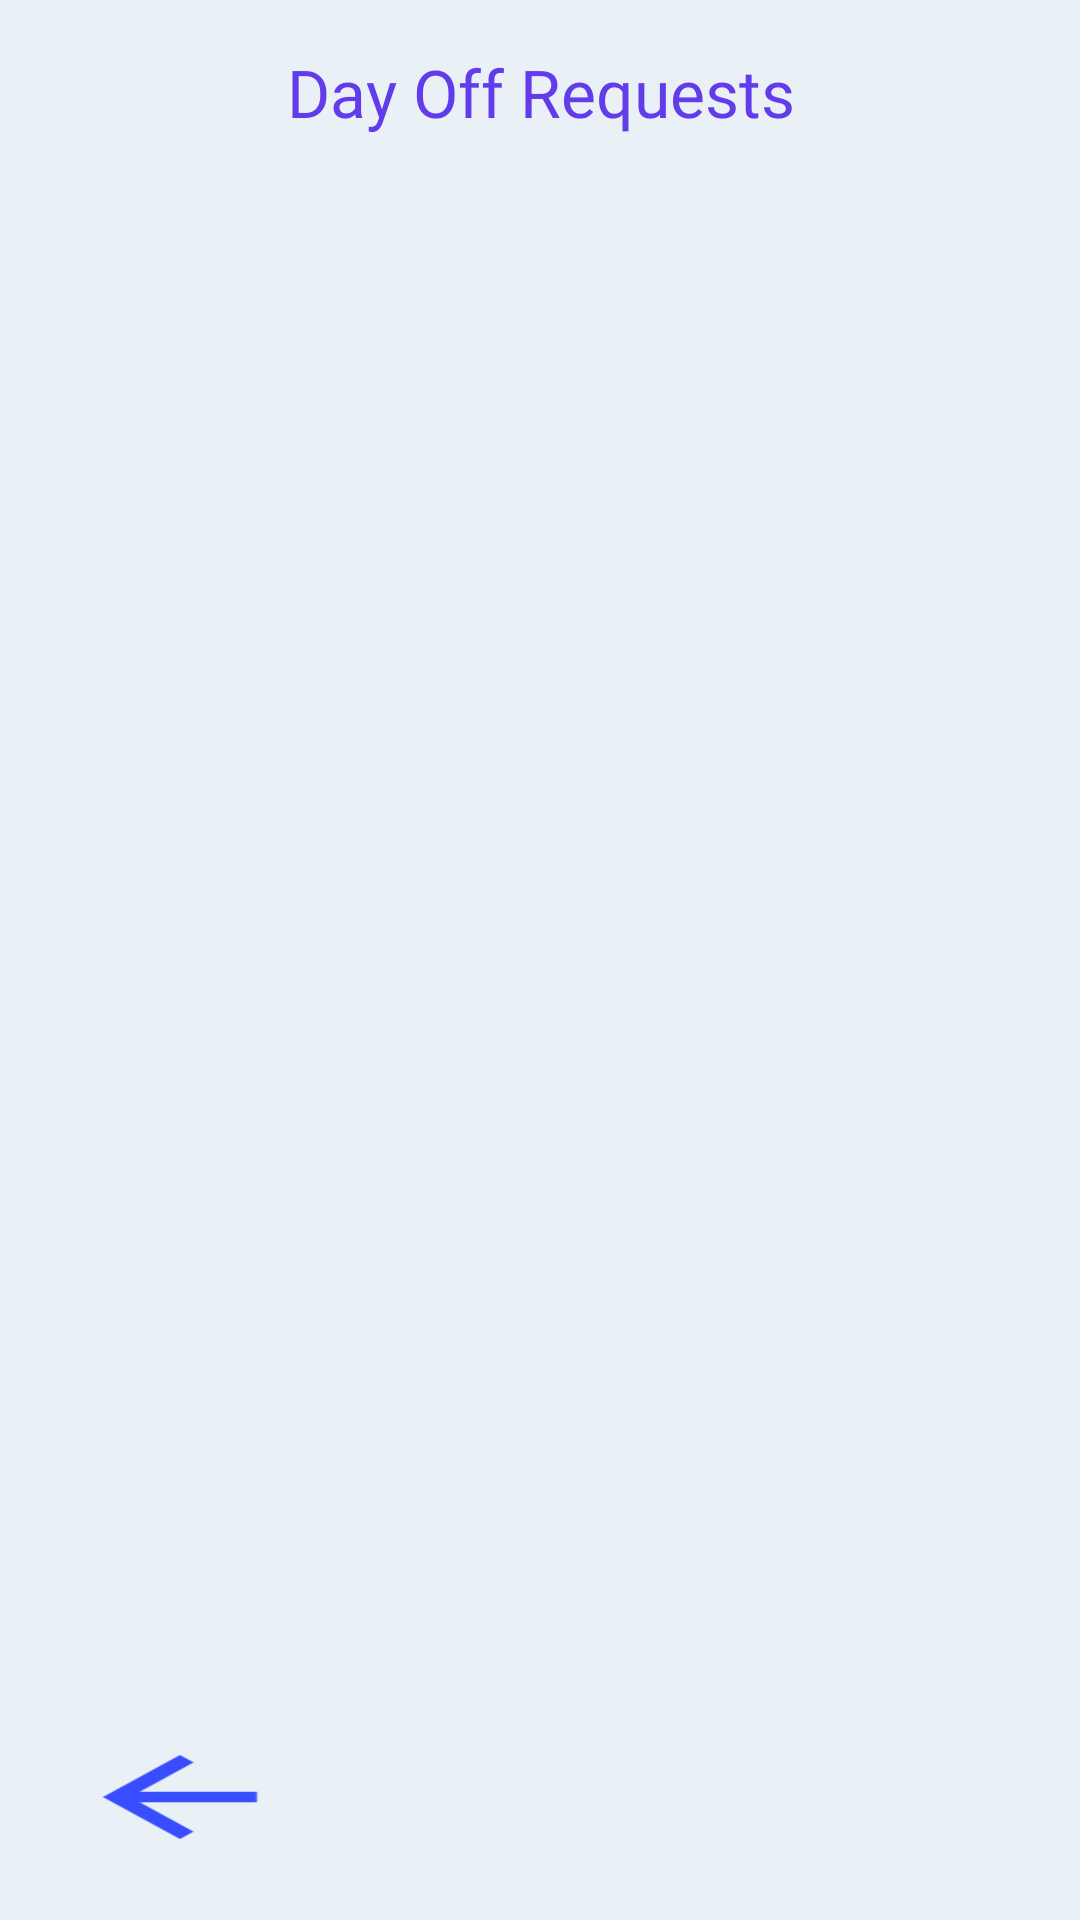

Icon click points for this 1080 × 1920 phone screenshot, format (x,y):
back: (180,1797)
